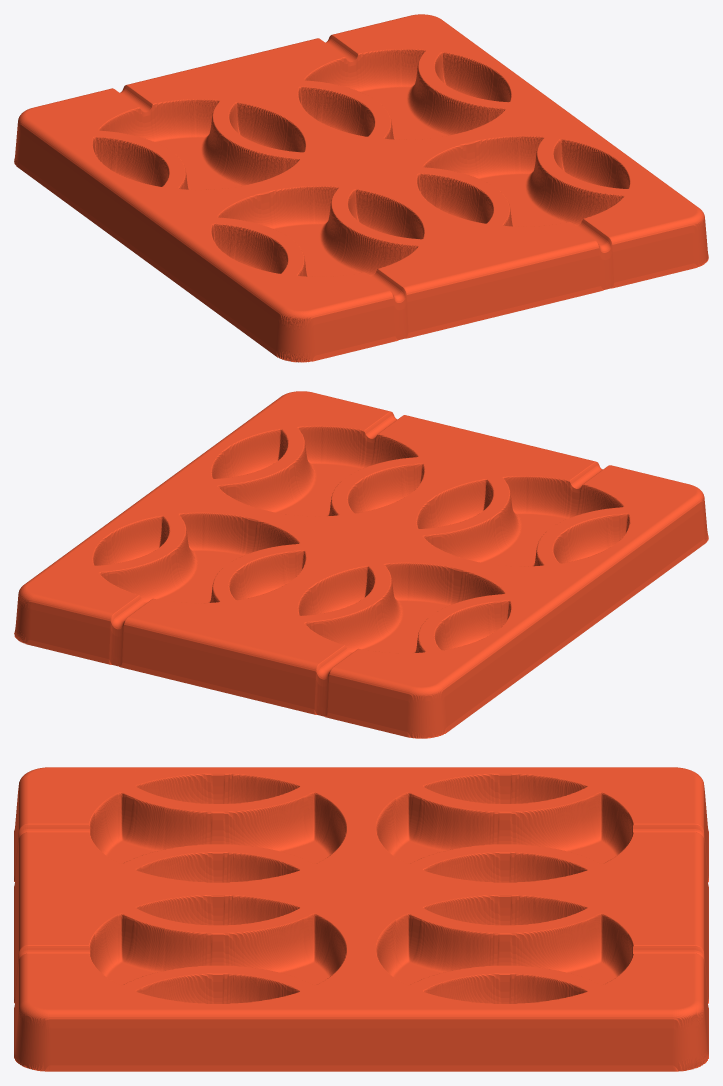
Rendered from mold.glb.
3 renders of one model, top to bottom at view 1: azimuth 30°, elevation 25°; view 2: azimuth 150°, elevation 25°; view 3: azimuth 270°, elevation 25°, orthographic. The views are drawn at different scales.
Parts seen in each view (by area): view 1: geometry_0; view 2: geometry_0; view 3: geometry_0.
Boxes of the visible parts, left/top/right/bottom form: geometry_0: left=14, top=14, right=708, bottom=362; geometry_0: left=14, top=391, right=708, bottom=738; geometry_0: left=14, top=767, right=708, bottom=1071.
Bounding box in the file's own units: 0.1497 × 0.0155 × 0.1735.
